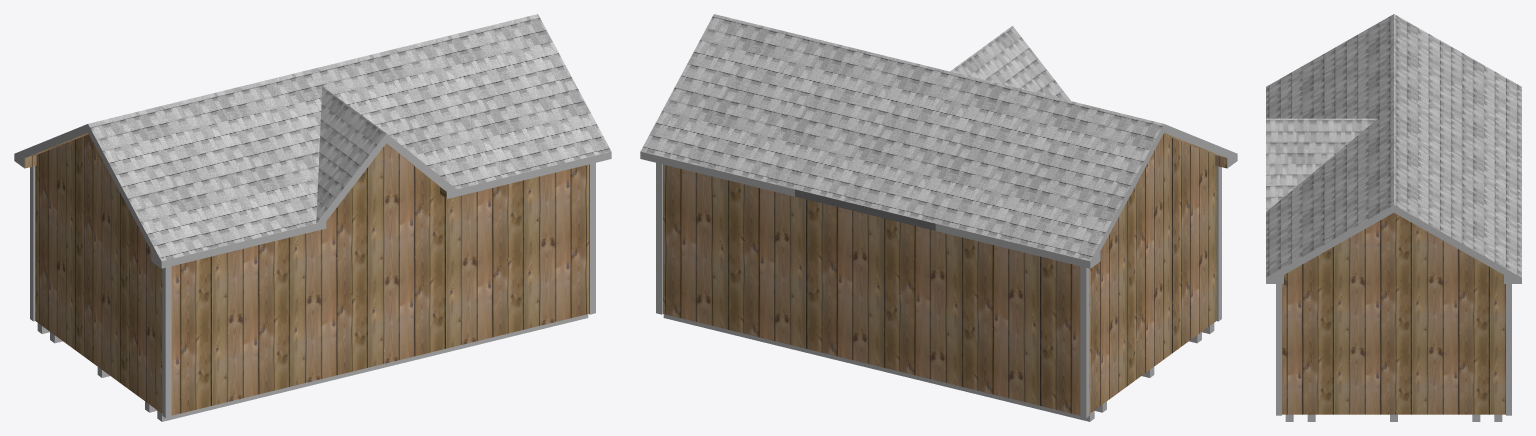
File: Victorian Shed_10x18.obj
3 views of the same model, side by side, from view 1: azimuth 30°, elevation 25°; view 2: azimuth 150°, elevation 25°; view 3: azimuth 270°, elevation 25° (orthographic). The views are drawn at different scales.
Visible parts, largest first — view 1: Shed, Roof, Sides, Trim, Floor; view 2: Shed, Roof, Sides, Trim, Floor; view 3: Roof, Shed, Sides, Trim, Floor.
Boxes of the visible parts, x1,y1,x2,y2 form: Shed: (24, 133, 588, 415); Roof: (88, 14, 611, 261); Sides: (14, 124, 611, 268); Trim: (30, 163, 595, 418); Floor: (37, 314, 588, 421); Shed: (663, 133, 1227, 415); Roof: (640, 14, 1163, 261); Sides: (640, 124, 1237, 268); Trim: (656, 163, 1221, 418); Floor: (663, 314, 1214, 421); Roof: (1266, 14, 1521, 277); Shed: (1282, 213, 1505, 414); Sides: (1266, 205, 1521, 283); Trim: (1276, 284, 1511, 415); Floor: (1285, 414, 1502, 421).
Size of the model in its own units: 5.79 by 3.14 by 3.28.
